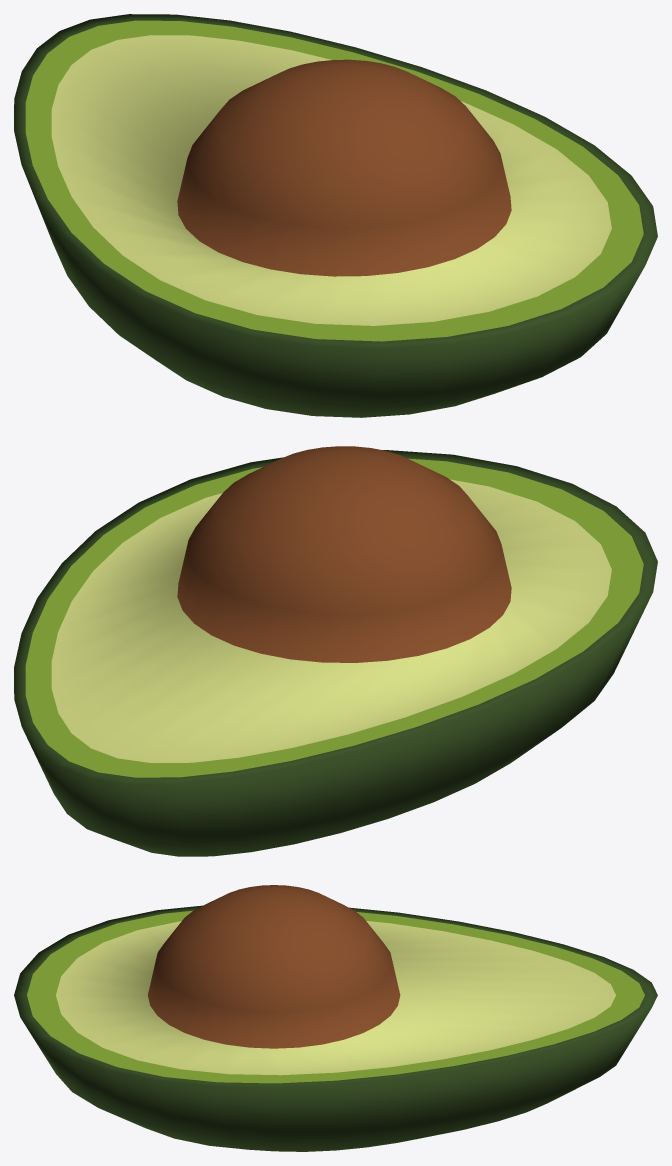
File: NEW_RECOVERY_044_LOD1.glb
3 views of the same model, one above another, from view 1: azimuth 30°, elevation 25°; view 2: azimuth 150°, elevation 25°; view 3: azimuth 270°, elevation 25° (orthographic). The views are drawn at different scales.
Parts seen in each view (by area): view 1: Avocado_half; view 2: Avocado_half; view 3: Avocado_half.
Part boxes in pixels (left/top/right/bottom): Avocado_half: left=14, top=14, right=657, bottom=417; Avocado_half: left=14, top=446, right=657, bottom=856; Avocado_half: left=14, top=885, right=657, bottom=1151.
Bounding box in the file's own units: 1.76 × 1 × 2.6.
